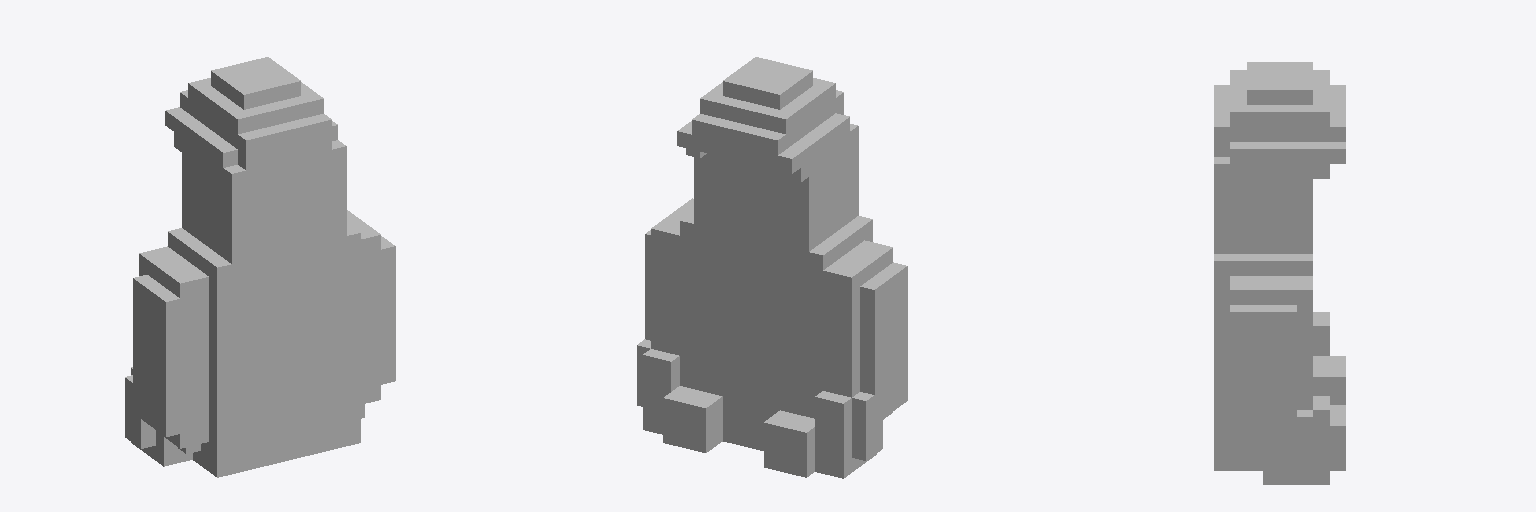
Rendered from player-7.obj.
The picture shows the model from 3 angles: view 1: azimuth 30°, elevation 25°; view 2: azimuth 150°, elevation 25°; view 3: azimuth 270°, elevation 25°; orthographic projection.
Parts seen in each view (by area): view 1: object 1; view 2: object 1; view 3: object 1.
Boxes of the visible parts, <box> form: object 1: <box>125,57,395,477</box>; object 1: <box>637,57,907,478</box>; object 1: <box>1214,62,1345,484</box>.
Size of the model in its own units: 1.6 by 2.4 by 0.8.